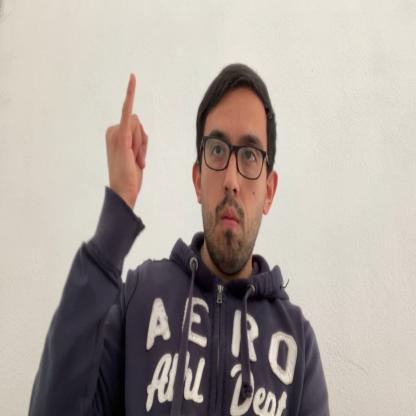I: (106, 71, 147, 220)
